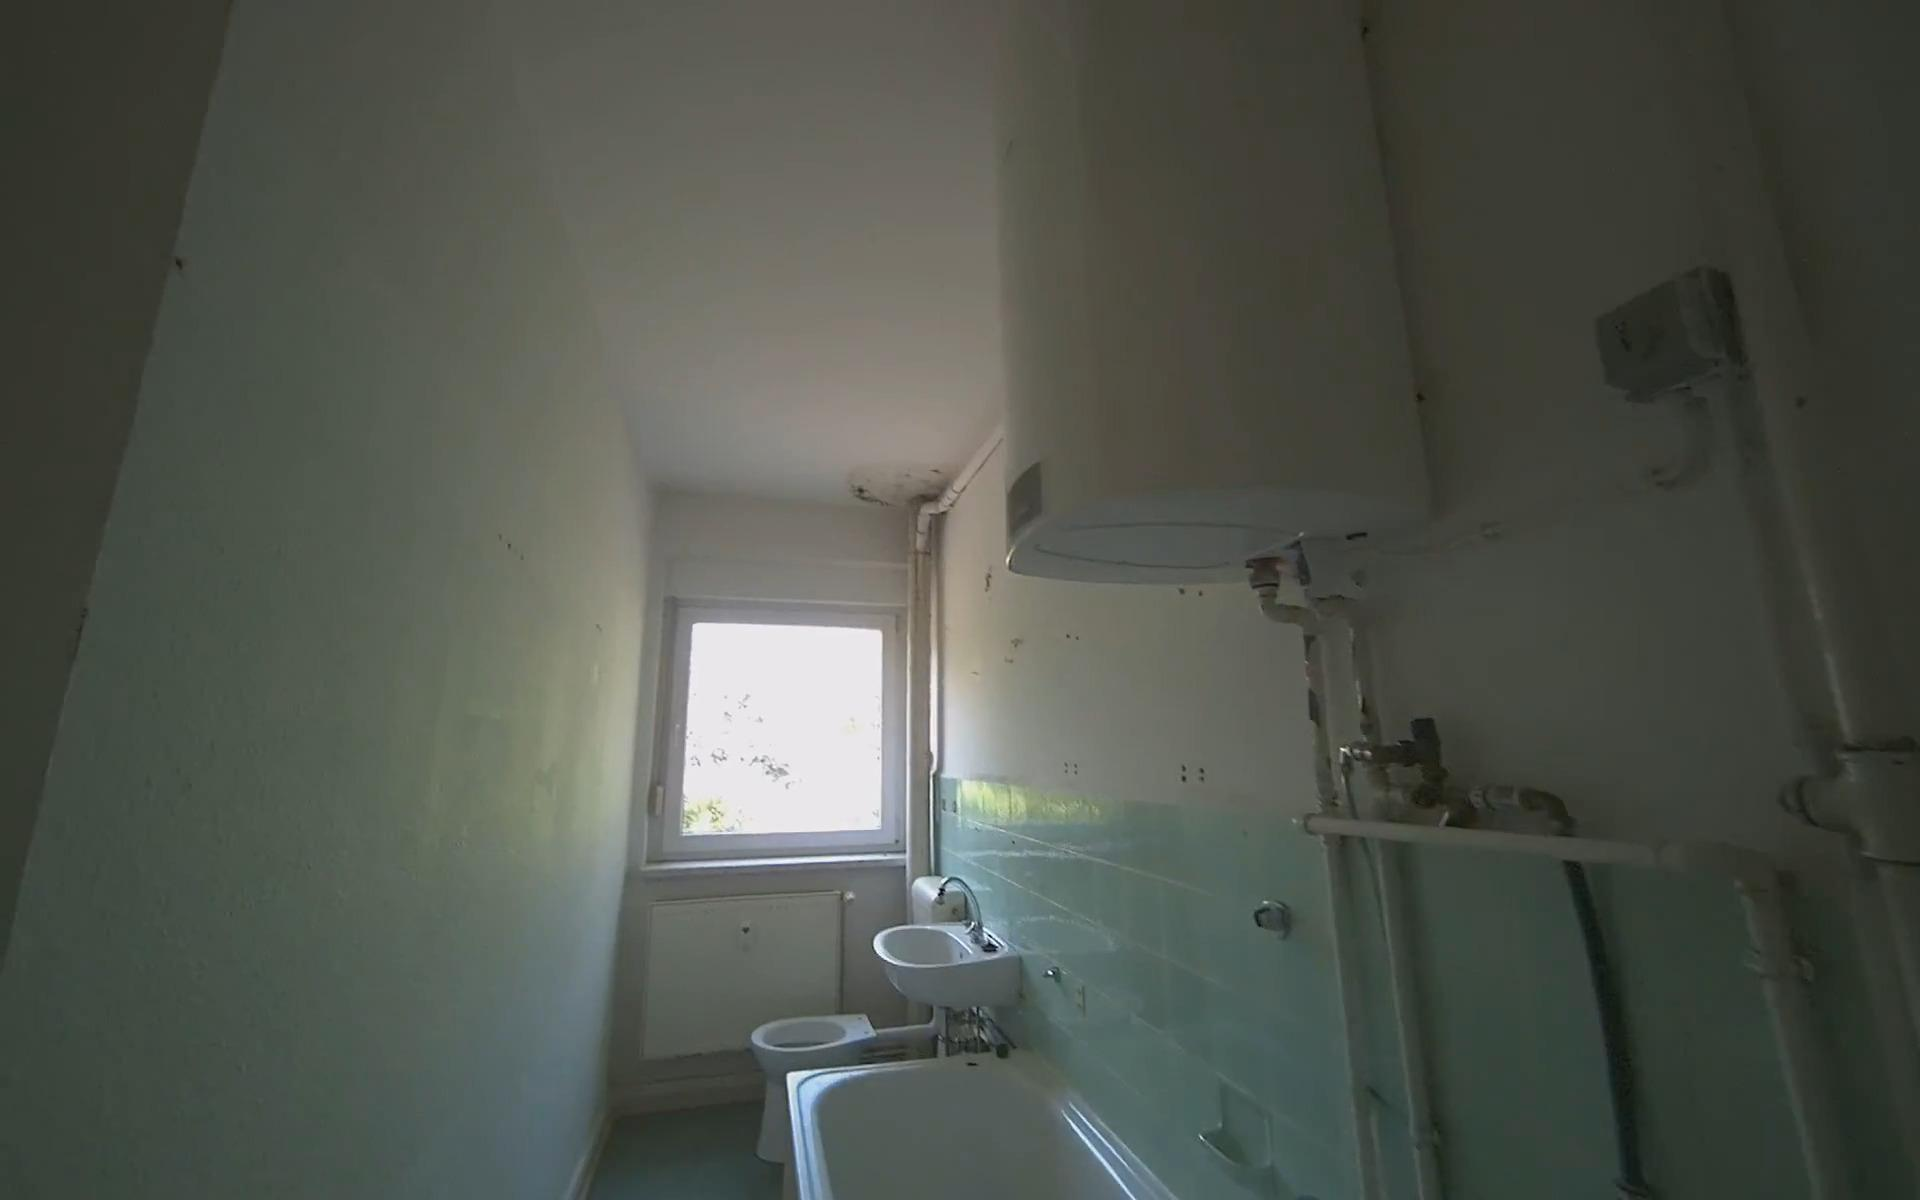radiator: (637, 885, 850, 1067)
window: (658, 605, 900, 847)
